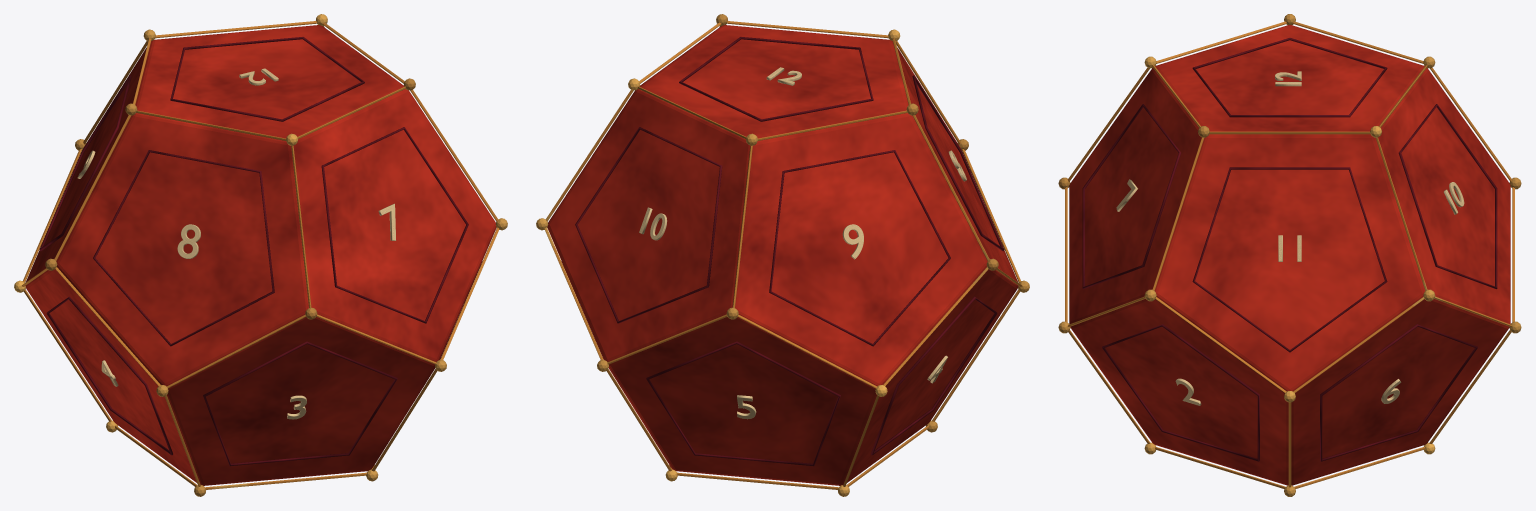
File: D12_十二面骰_朱砂鎏金_baked.glb
3 views of the same model, side by side, from view 1: azimuth 30°, elevation 25°; view 2: azimuth 150°, elevation 25°; view 3: azimuth 270°, elevation 25° (orthographic). The views are drawn at different scales.
Visible parts, largest first — view 1: D12_Body_12_Faces, D12_Aged_Bronze_Edges, D12_Occult_Face_Borders, D12_Vertex_Studs; view 2: D12_Body_12_Faces, D12_Aged_Bronze_Edges, D12_Occult_Face_Borders, D12_Vertex_Studs; view 3: D12_Body_12_Faces, D12_Aged_Bronze_Edges, D12_Occult_Face_Borders, D12_Vertex_Studs.
Boxes of the visible parts, <box> form: D12_Body_12_Faces: <box>25,25,496,485</box>; D12_Aged_Bronze_Edges: <box>21,21,499,489</box>; D12_Occult_Face_Borders: <box>39,37,482,466</box>; D12_Vertex_Studs: <box>14,14,507,496</box>; D12_Body_12_Faces: <box>547,25,1018,485</box>; D12_Aged_Bronze_Edges: <box>544,21,1022,489</box>; D12_Occult_Face_Borders: <box>561,37,1004,466</box>; D12_Vertex_Studs: <box>536,14,1029,496</box>; D12_Body_12_Faces: <box>1069,25,1510,485</box>; D12_Aged_Bronze_Edges: <box>1065,21,1514,488</box>; D12_Occult_Face_Borders: <box>1082,38,1497,461</box>; D12_Vertex_Studs: <box>1058,14,1521,496</box>.
Size of the model in its own units: 4.39 by 3.57 by 4.18.
Materials: 16 (16 with a texture image).
